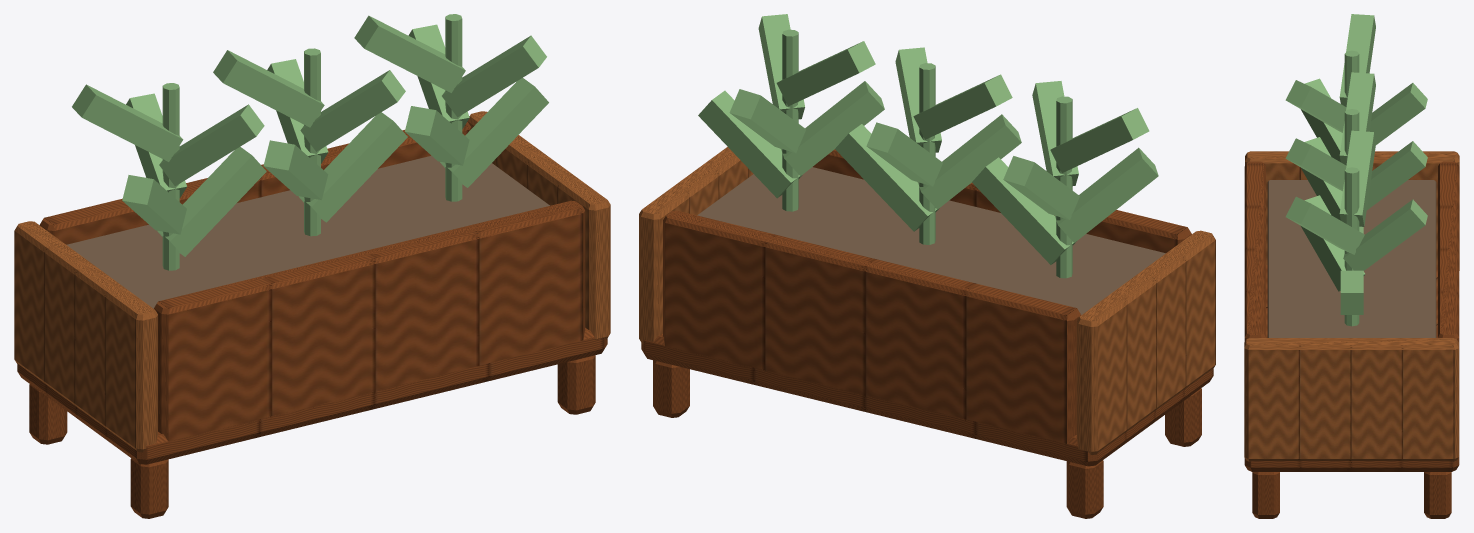
Rendered from ocean-raft-settlement-ocean-raft-settlement-deck-plant-458b2514__28915.glb.
The picture shows the model from 3 angles, left to right: view 1: azimuth 30°, elevation 25°; view 2: azimuth 150°, elevation 25°; view 3: azimuth 270°, elevation 25°; orthographic projection. The views are drawn at different scales.
Parts seen in each view (by area): view 1: wood, leaf, pale, soil; view 2: wood, leaf, pale, soil; view 3: pale, leaf, soil, wood.
Part boxes in pixels (bbox=[...]): wood: bbox=[17, 122, 607, 518]; leaf: bbox=[72, 14, 548, 270]; pale: bbox=[14, 111, 610, 452]; soil: bbox=[66, 155, 549, 308]; wood: bbox=[641, 149, 1213, 518]; leaf: bbox=[698, 14, 1158, 278]; pale: bbox=[639, 147, 1215, 454]; soil: bbox=[697, 167, 1165, 314]; pale: bbox=[1244, 151, 1459, 461]; leaf: bbox=[1285, 14, 1427, 326]; soil: bbox=[1267, 180, 1436, 337]; wood: bbox=[1244, 161, 1459, 518].
Size of the model in its own units: 1.51 by 1.16 by 0.7024.
4 materials, 2 textured.
